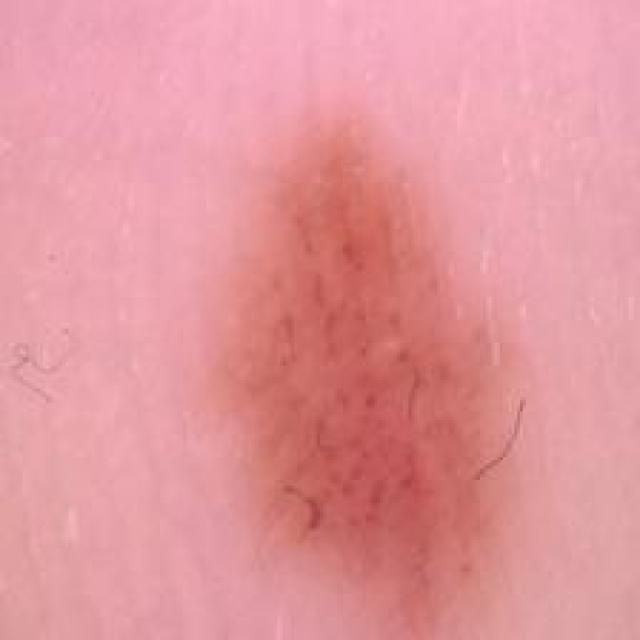Cancer: (223, 90, 537, 633)
